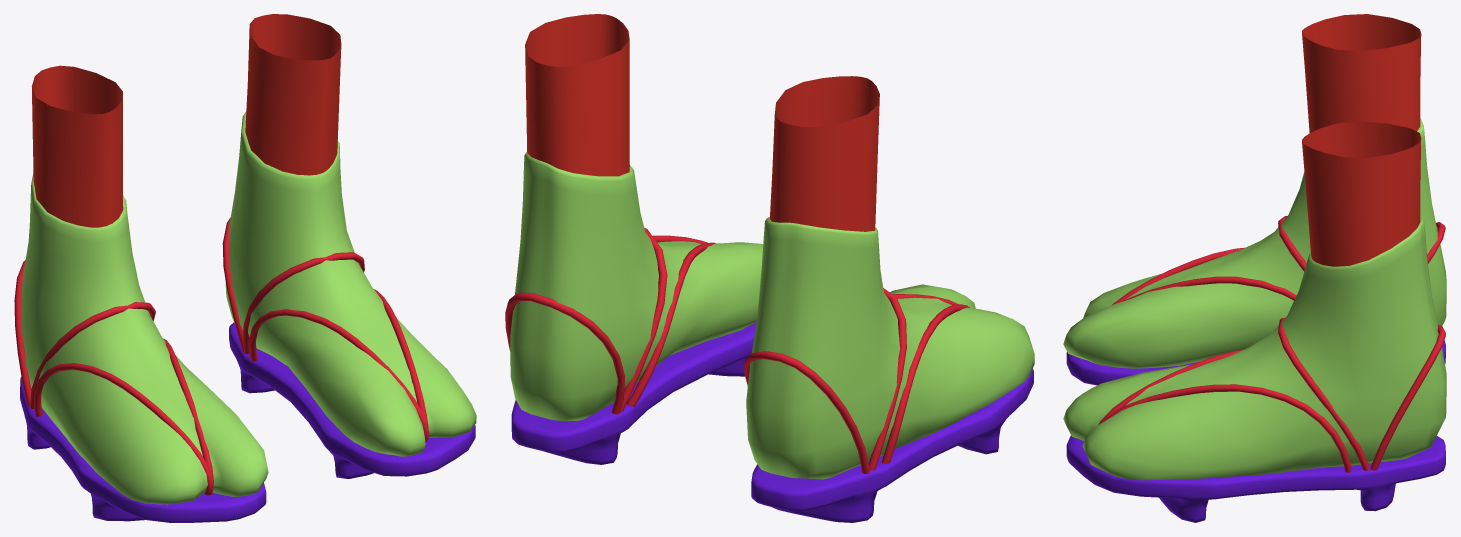
Rendered from Schuhe.fbx.
The picture shows the model from 3 angles, left to right: view 1: azimuth 30°, elevation 25°; view 2: azimuth 150°, elevation 25°; view 3: azimuth 270°, elevation 25°; orthographic projection. The views are drawn at different scales.
Visible parts, largest first — view 1: human_male_tpose.010; view 2: human_male_tpose.010; view 3: human_male_tpose.010.
Part boxes in pixels (<box>): human_male_tpose.010: <box>14,14,476,522</box>; human_male_tpose.010: <box>505,14,1034,522</box>; human_male_tpose.010: <box>1063,14,1446,522</box>.
Size of the model in its own units: 101 by 94.86 by 93.36.
